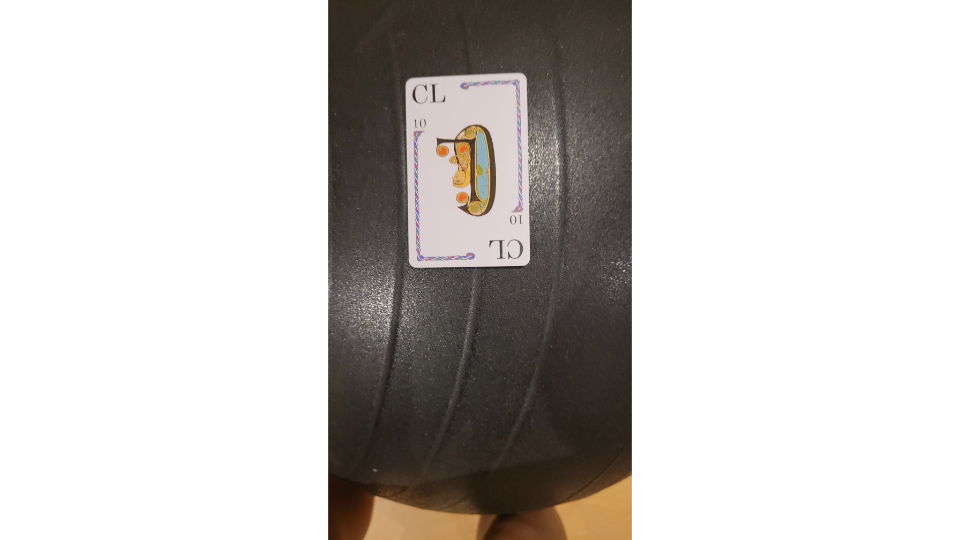CL: (401, 70, 536, 272)
